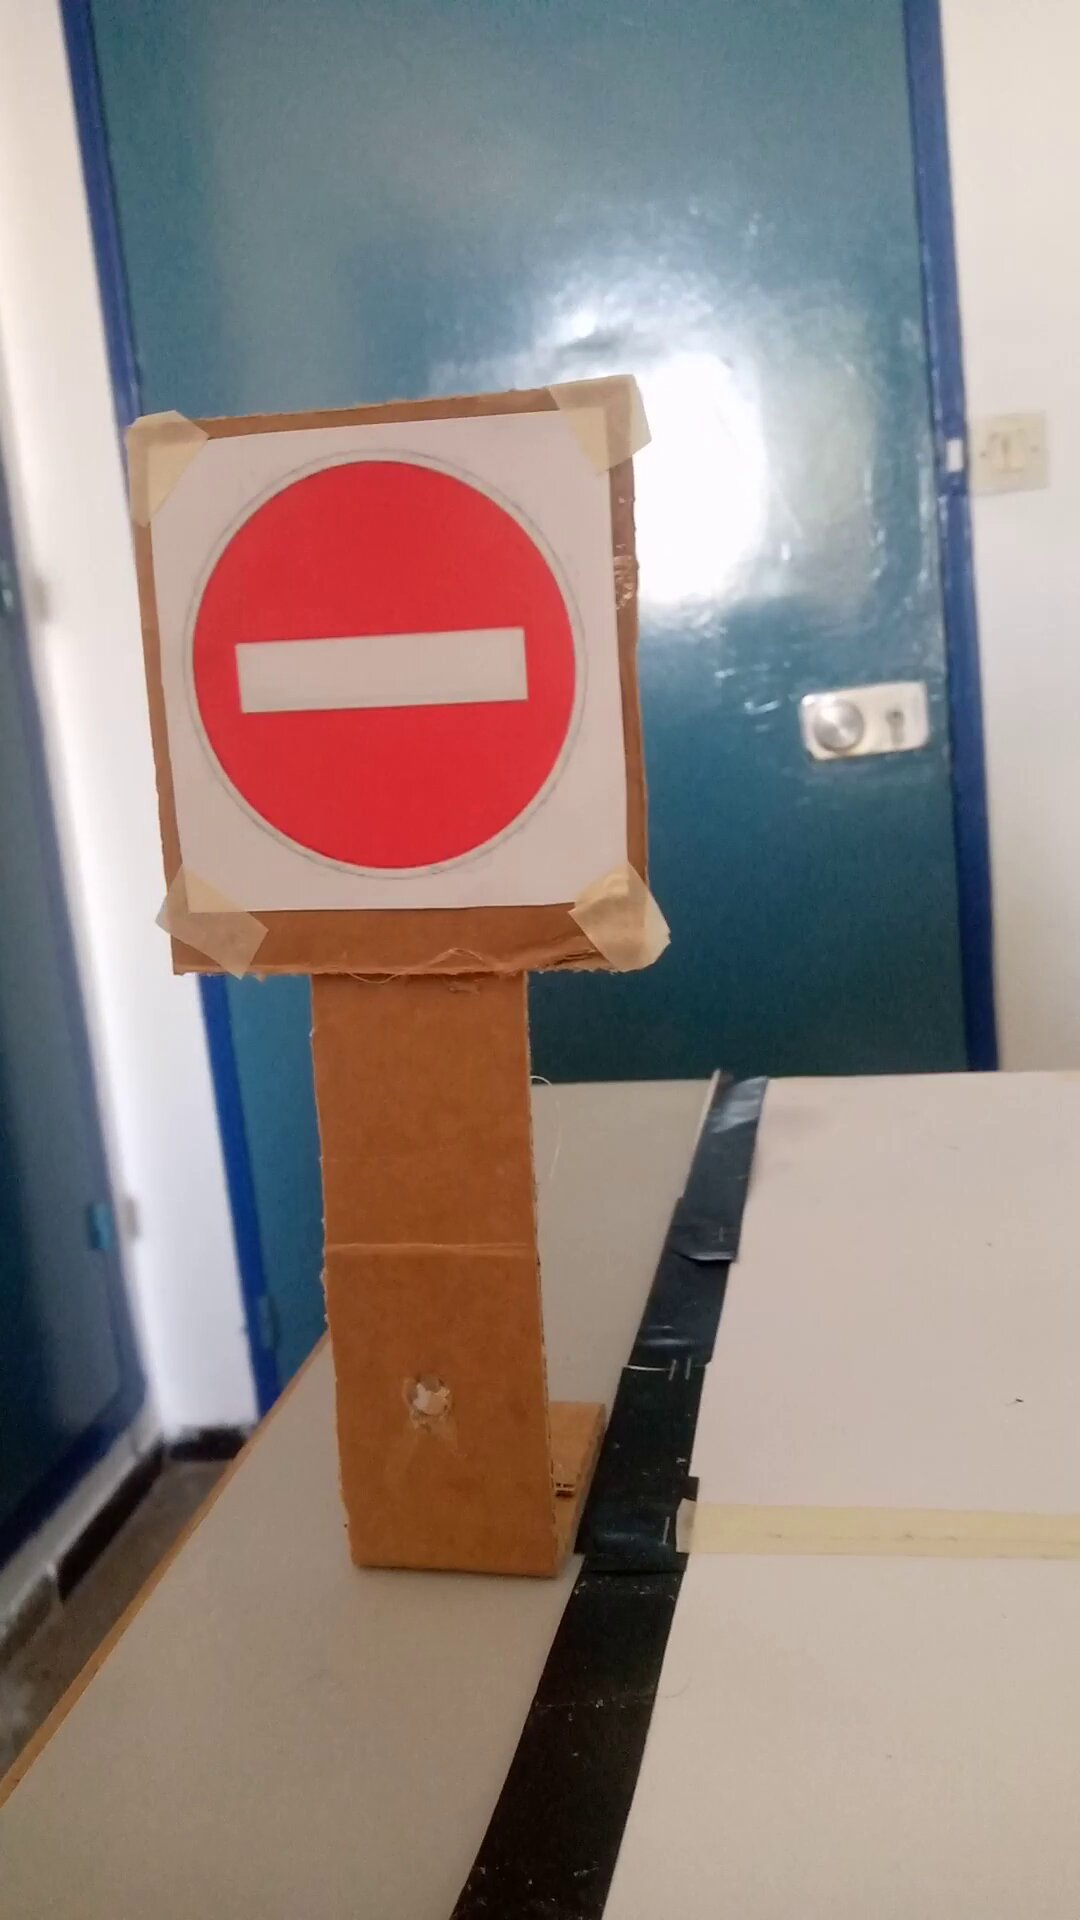panel010: (141, 440, 638, 931)
